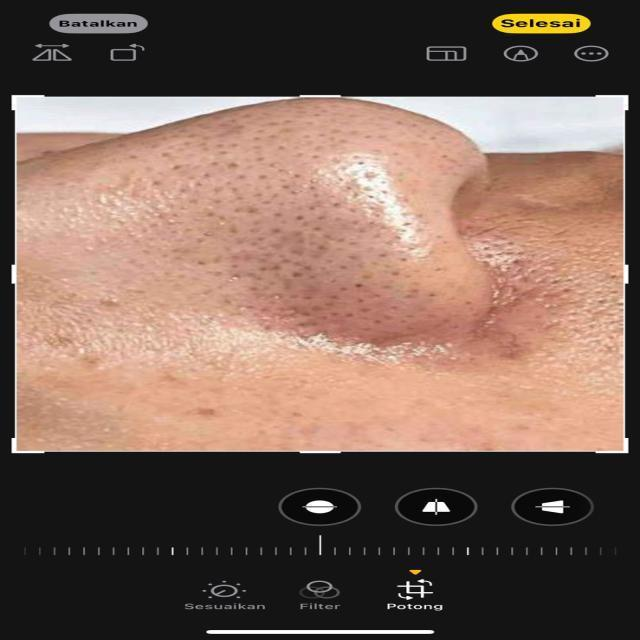blackhead: (153, 104, 453, 355)
